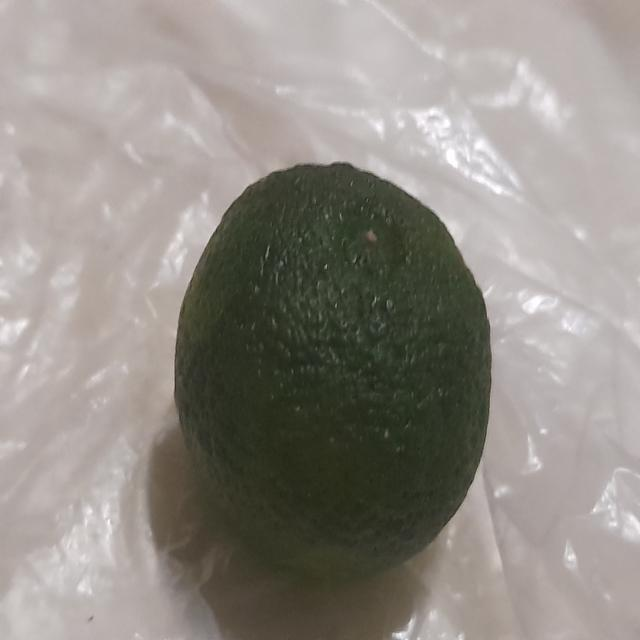heathy: (174, 154, 496, 586)
